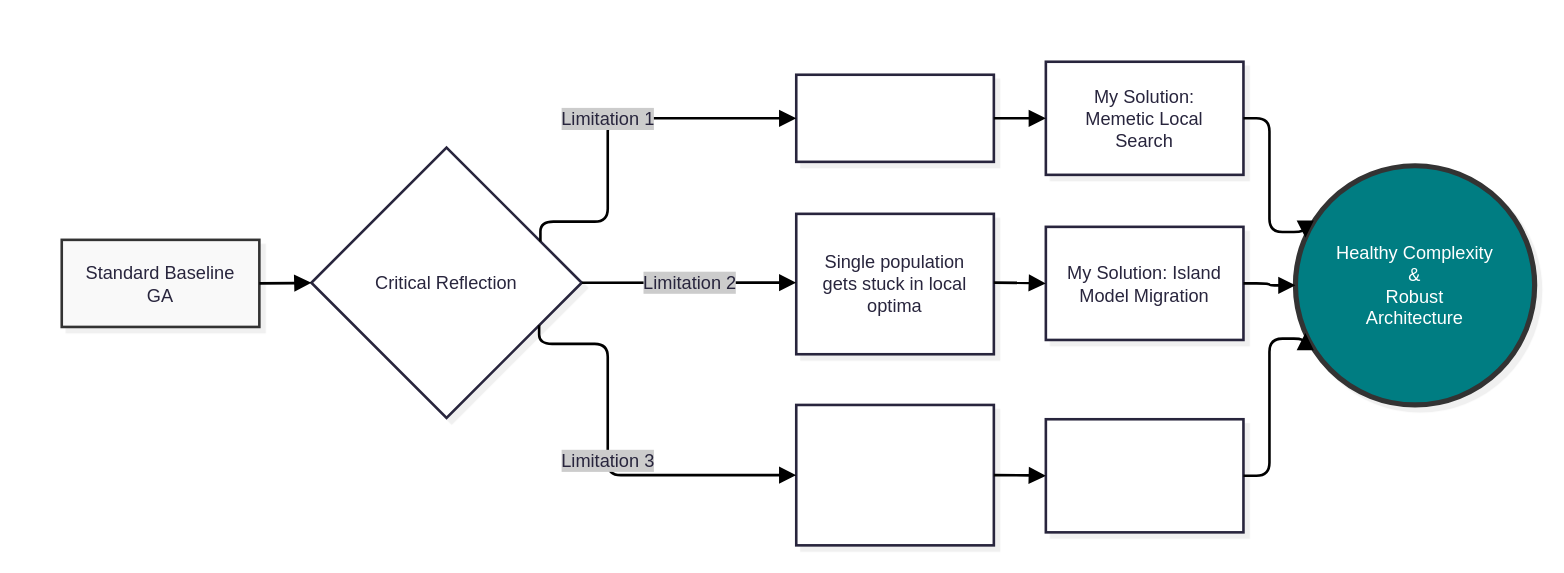
This 1564x573 diagram has some shape labels left out. Each missing label, with the centre of its shape:
"My Solution: Adaptive Fitness Landscape" goes at (1146,477).
"Relies purely on random mutation" goes at (897,120).
"Static rules don't reflect real-world exploration" goes at (897,477).
